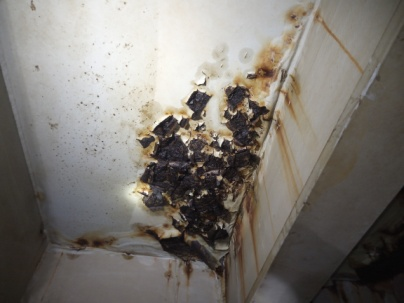corrosion: (126, 89, 270, 276), (260, 116, 312, 209), (306, 19, 367, 75), (233, 40, 286, 94), (59, 220, 121, 259), (265, 79, 317, 120), (279, 6, 312, 45)
